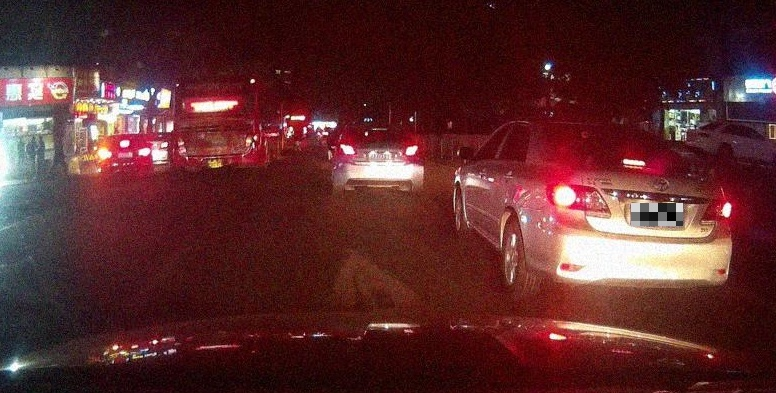L_light: (546, 182, 612, 219), (175, 125, 184, 148), (341, 144, 355, 155), (100, 152, 111, 157)
R_light: (700, 199, 732, 221), (251, 122, 261, 148), (404, 145, 418, 155), (137, 149, 149, 156)
T_light: (623, 158, 645, 166), (207, 108, 224, 113), (372, 127, 387, 130), (120, 141, 129, 145)
night-brake: (535, 119, 733, 301)
night-left: (99, 132, 151, 175)
night-no: (173, 75, 263, 173), (339, 122, 424, 193)
plate_1: (631, 203, 683, 226)
